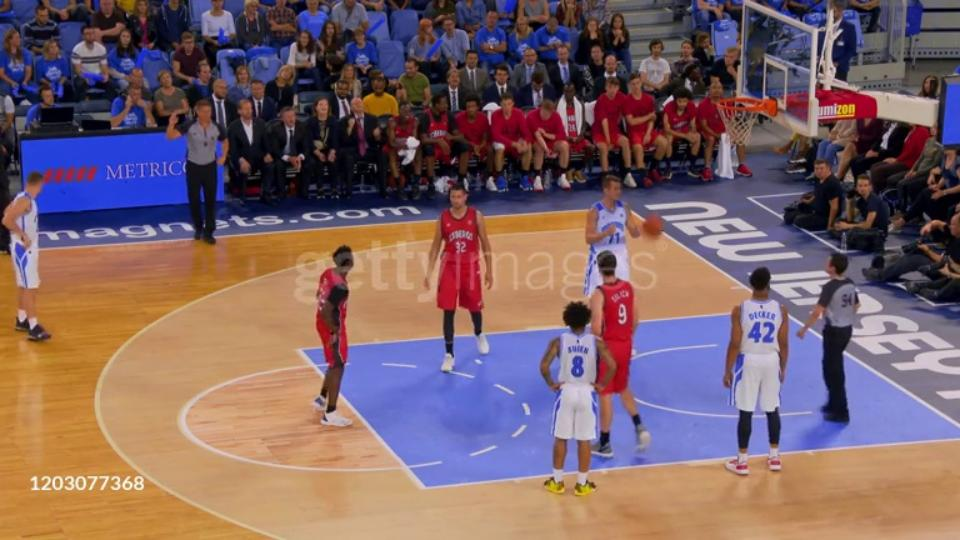hoop: (714, 92, 780, 119)
